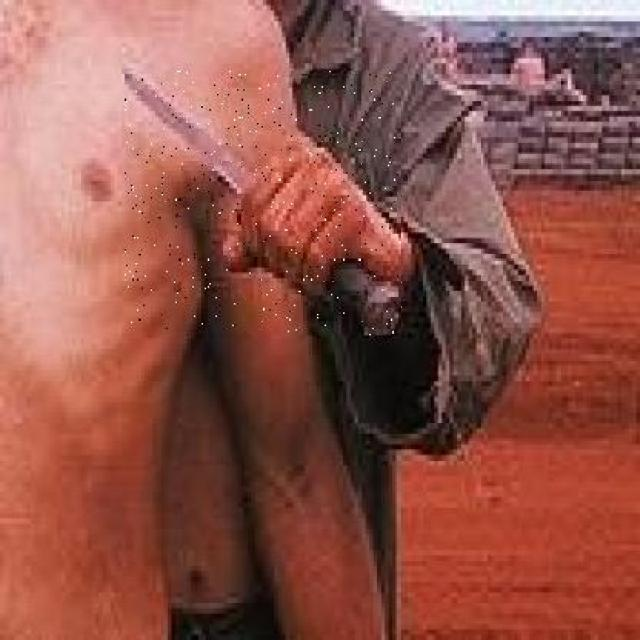knife: (125, 71, 402, 335)
